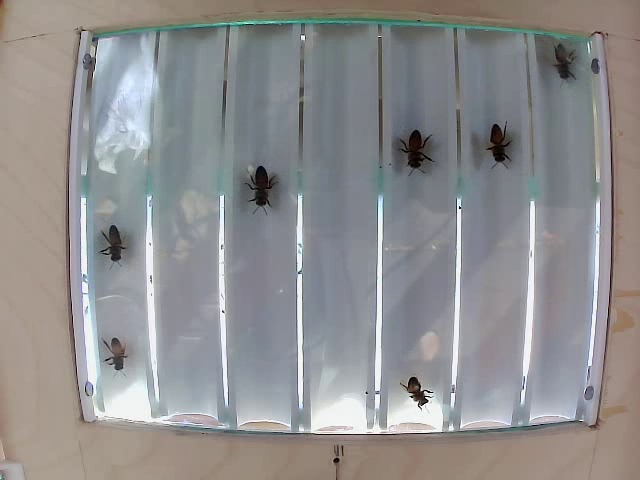bee: (241, 162, 285, 227), (397, 127, 437, 175), (96, 222, 130, 271), (548, 42, 584, 84), (484, 120, 511, 172), (99, 331, 128, 377), (399, 373, 436, 409)
